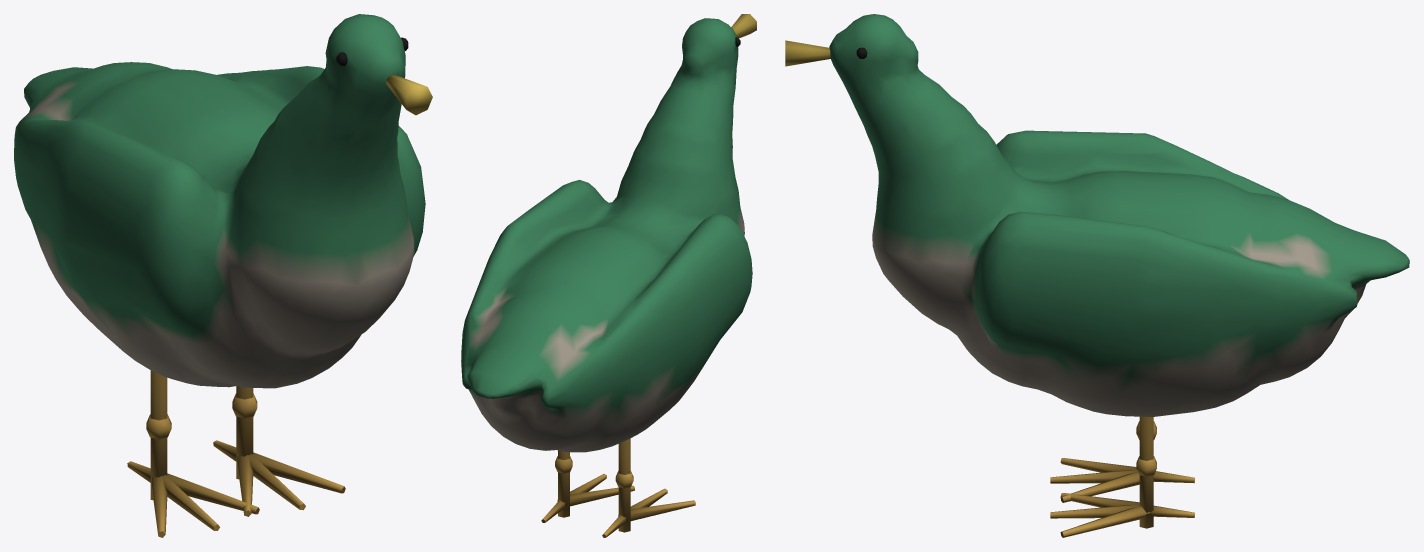
File: ente.glb
3 views of the same model, side by side, from view 1: azimuth 30°, elevation 25°; view 2: azimuth 150°, elevation 25°; view 3: azimuth 270°, elevation 25° (orthographic). The views are drawn at different scales.
Visible parts, largest first — view 1: lack; view 2: lack; view 3: lack.
Boxes of the visible parts, <box> form: lack: <box>14,14,432,537</box>; lack: <box>461,14,756,537</box>; lack: <box>785,14,1409,537</box>.
Size of the model in its own units: 0.183 by 0.354 by 0.4085.
